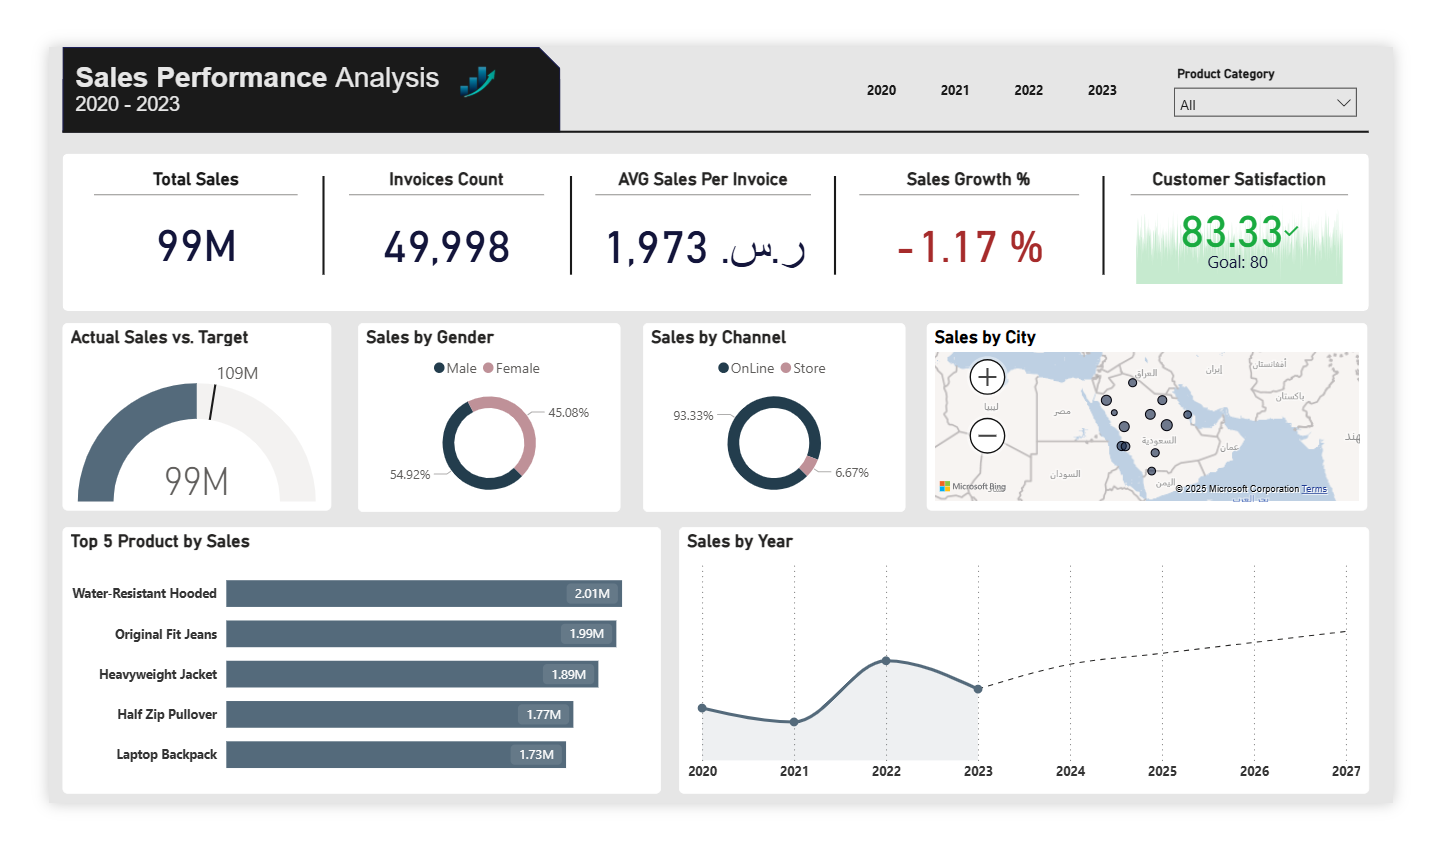

Layout of this report page (visuals, bound fields, positions):
{"tool":"powerbi","page":{"name":"Page 1","canvas":[1280,720],"ordinal":0},"visuals":[{"type":"shape","box":[12.9,0,474.3,81.4],"z":0},{"type":"shape","box":[12.9,101.4,1244.3,150],"z":1000},{"type":"card","title":"Total Sales","fields":{"Values":["Measures Table (2).Total Sales"]},"box":[42.9,115.7,194.3,111.4],"z":2000},{"type":"kpi","title":"Customer Satisfaction","fields":{"Goal":["Measures Table (2).Satisfaction Target %"],"Indicator":["Measures Table (2).Customer Satisfaction %"],"TrendLine":["Calendar Table.Date"]},"box":[1030,115.7,207.1,114.3],"z":3000},{"type":"gauge","title":"Actual Sales vs. Target","fields":{"Y":["Sum(Fact Table.Total Sales)"],"TargetValue":["Measures Table (2).Sales Target"]},"box":[12.9,262.9,255.7,178.6],"z":4000},{"type":"card","title":"Invoices Count","fields":{"Values":["Measures Table (2).Invoices Count"]},"box":[286.1,115.7,185.7,114.3],"z":5000},{"type":"clusteredBarChart","title":"Top 5 Product by Sales","fields":{"Category":["Fact Table.Product Name"],"Y":["Sum(Fact Table.Total Sales)"]},"box":[12.9,457.1,570,254.3],"z":7000},{"type":"donutChart","title":"Sales by Channel","fields":{"Y":["Sum(Fact Table.Total Sales)"],"Category":["Fact Table.Channel"]},"box":[565.7,262.9,250,180],"z":8000},{"type":"map","title":"Sales by City","fields":{"Category":["Fact Table.City"],"Size":["Sum(Fact Table.Total Sales)"]},"box":[835.7,262.9,420,178.6],"z":9000},{"type":"donutChart","title":"Sales by Gender","fields":{"Y":["Sum(Fact Table.Total Sales)"],"Category":["Fact Table.Customer Gender"]},"box":[294.3,262.9,250,180],"z":10000},{"type":"card","title":"Sales Growth %","fields":{"Values":["Measures Table.Sales Growth %"]},"box":[769.6,115.7,211.4,114.3],"z":11000},{"type":"lineChart","title":"Sales by Year","fields":{"Y":["Measures Table (2).Total Sales"],"Category":["Calendar Table.Date.Variation.Date Hierarchy.Year","Calendar Table.Quarter"]},"box":[600,457.1,657.1,254.3],"z":12000},{"type":"slicer","fields":{"Values":["Fact Table.Product Category"]},"box":[1061.4,12.9,194.3,57.1],"z":13000},{"type":"card","title":"AVG Sales Per Invoice","fields":{"Values":["Measures Table.Avg Sales Per Invoice"]},"box":[520,115.7,205.7,114.3],"z":14000},{"type":"textbox","box":[20,8.6,435.7,71.4],"z":15000},{"type":"shape","box":[238.6,122.9,45.7,94.3],"z":16000},{"type":"shape","box":[474.3,122.9,45.7,94.3],"z":17000},{"type":"shape","box":[725.7,122.9,45.7,94.3],"z":18000},{"type":"image","box":[378.6,0,61.4,55.7],"z":19000},{"type":"shape","box":[981.4,122.9,45.7,94.3],"z":20000},{"type":"shape","box":[12.9,65.7,1244.3,30],"z":21000},{"type":"slicer","fields":{"Values":["Calendar Table.Year"]},"box":[732.9,10,328.6,61.4],"z":22000}]}

Visuals, with their boxes on the page's 1280x720 design canvas (x1, y1, x2, y2). These are canvas units, not pixel positions in the 1444x852 screenshot, which may show the page scaled, cropped or inside an application window:
shape: x1=13, y1=0, x2=487, y2=81
shape: x1=13, y1=101, x2=1257, y2=251
"Total Sales" card: x1=43, y1=116, x2=237, y2=227
"Customer Satisfaction" kpi: x1=1030, y1=116, x2=1237, y2=230
"Actual Sales vs. Target" gauge: x1=13, y1=263, x2=269, y2=442
"Invoices Count" card: x1=286, y1=116, x2=472, y2=230
"Top 5 Product by Sales" clusteredBarChart: x1=13, y1=457, x2=583, y2=711
"Sales by Channel" donutChart: x1=566, y1=263, x2=816, y2=443
"Sales by City" map: x1=836, y1=263, x2=1256, y2=442
"Sales by Gender" donutChart: x1=294, y1=263, x2=544, y2=443
"Sales Growth %" card: x1=770, y1=116, x2=981, y2=230
"Sales by Year" lineChart: x1=600, y1=457, x2=1257, y2=711
slicer - Fact Table.Product Category: x1=1061, y1=13, x2=1256, y2=70
"AVG Sales Per Invoice" card: x1=520, y1=116, x2=726, y2=230
textbox: x1=20, y1=9, x2=456, y2=80
shape: x1=239, y1=123, x2=284, y2=217
shape: x1=474, y1=123, x2=520, y2=217
shape: x1=726, y1=123, x2=771, y2=217
image: x1=379, y1=0, x2=440, y2=56
shape: x1=981, y1=123, x2=1027, y2=217
shape: x1=13, y1=66, x2=1257, y2=96
slicer - Calendar Table.Year: x1=733, y1=10, x2=1062, y2=71
